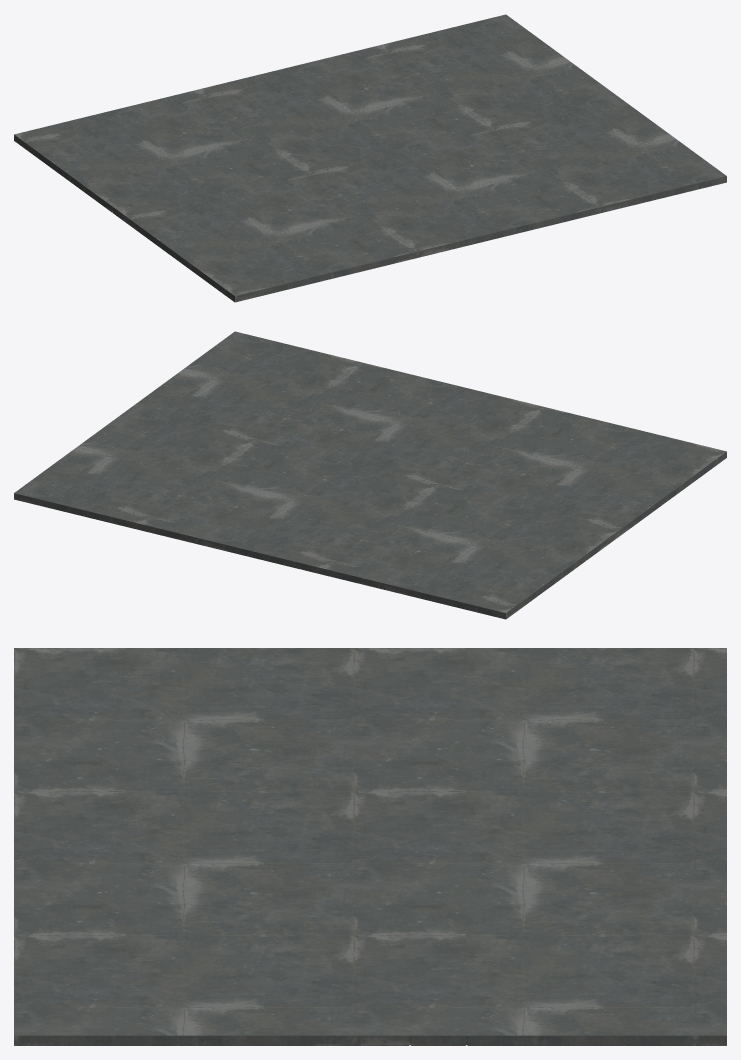
Rendered from Ceiling_Floor.FBX.
3 renders of one model, top to bottom at view 1: azimuth 30°, elevation 25°; view 2: azimuth 150°, elevation 25°; view 3: azimuth 270°, elevation 25°, orthographic. The views are drawn at different scales.
Visible parts, largest first — view 1: Ceiling_Floor; view 2: Ceiling_Floor; view 3: Ceiling_Floor.
Boxes of the visible parts, x1,y1,x2,y2 form: Ceiling_Floor: [14, 14, 726, 302]; Ceiling_Floor: [14, 331, 726, 619]; Ceiling_Floor: [14, 648, 726, 1045].
Bounding box in the file's own units: 810 × 630 × 10.
3 materials, 3 textured.
